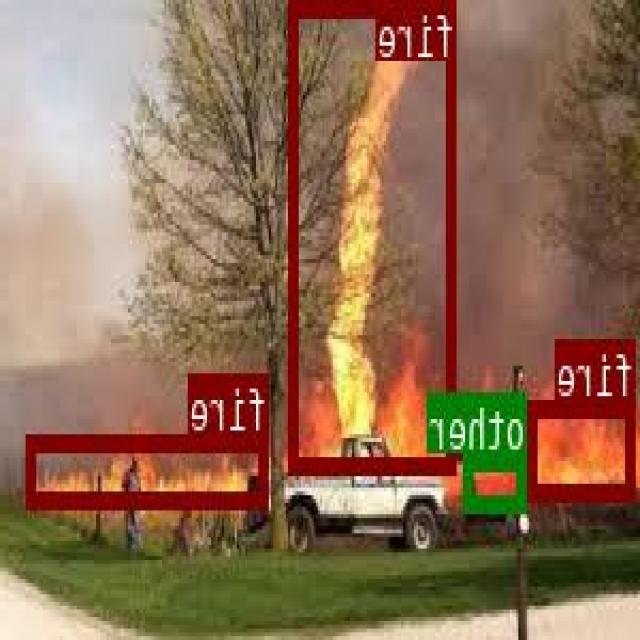fire: (291, 0, 458, 469), (29, 432, 271, 507), (531, 397, 636, 496)
other: (467, 453, 528, 507)
